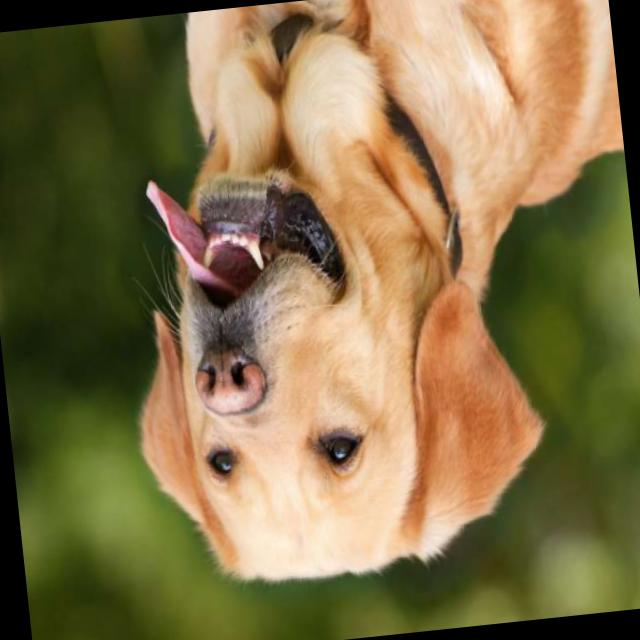dogs: (96, 0, 640, 595)
